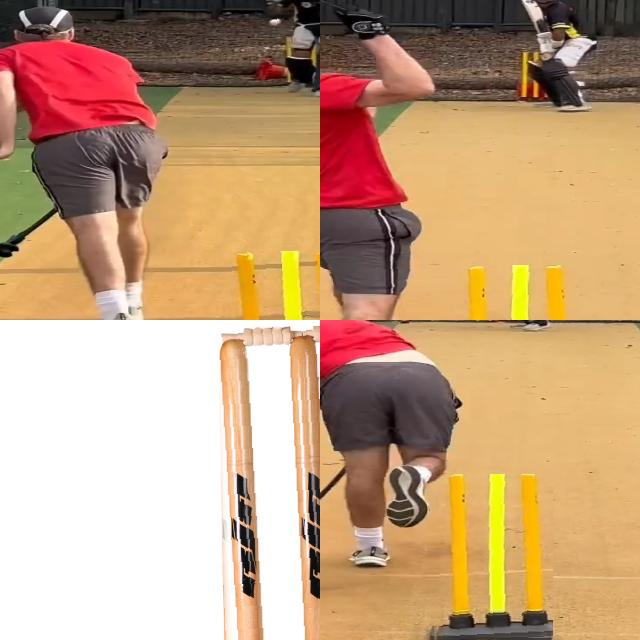Cricket ball: (268, 18, 284, 26)
Stumps: (212, 326, 320, 640), (427, 473, 552, 640), (446, 265, 579, 320), (221, 251, 320, 320)
